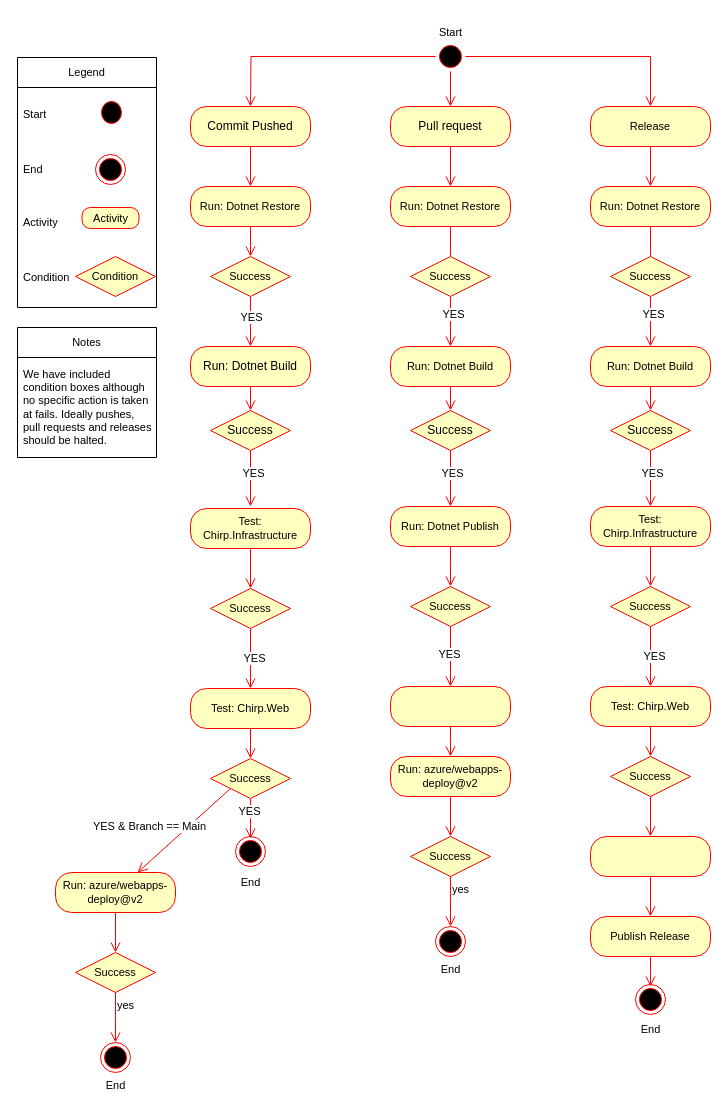
The diagram is 728 pixels wide and 1117 high, and some of its shapes have lost their labels. The shapes that lost their labels are listed below. From the top down, each one's centre as x and y in pixels, then its label:
At (450,706): "DEPLOY".
At (650,856): "Build Releases: Linux, Windows & MacOS".
